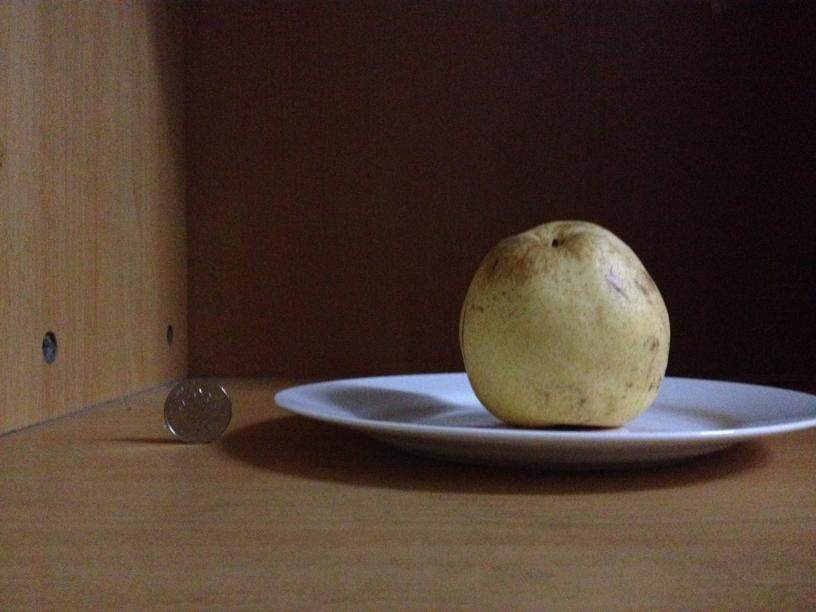coin: (164, 376, 232, 444)
pear: (464, 216, 671, 428)
